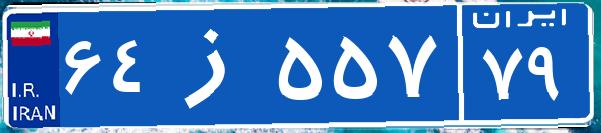4: (110, 28, 158, 105)
5: (273, 28, 330, 110), (330, 28, 385, 110)
6: (57, 26, 110, 107)
7: (385, 28, 445, 110), (475, 38, 525, 113)
9: (525, 38, 570, 115)
ز: (158, 15, 273, 115)
